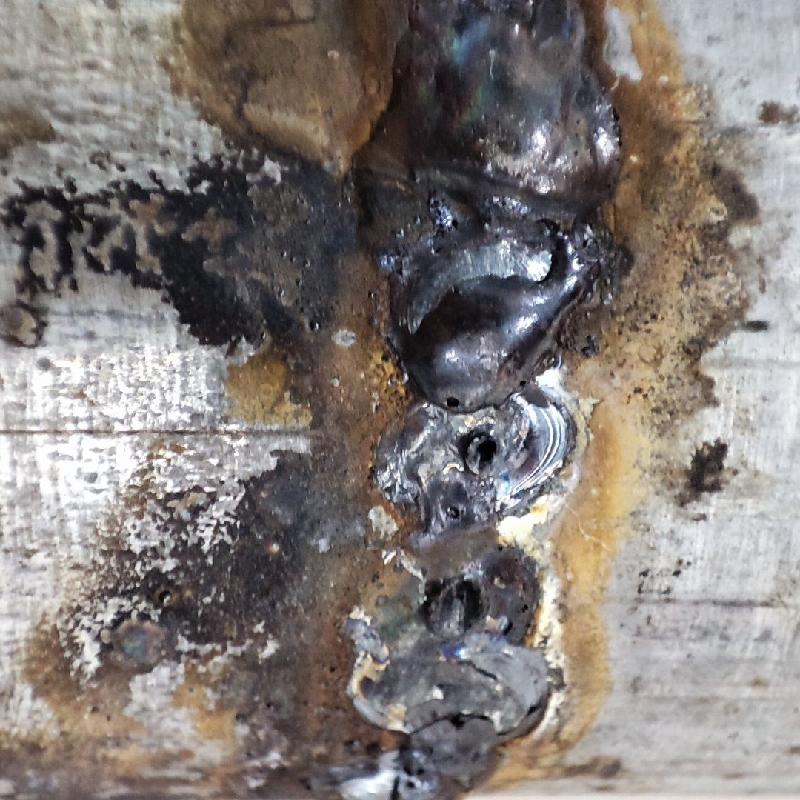Surface_pores: (438, 387, 479, 422)
Weld: (358, 5, 624, 410)
